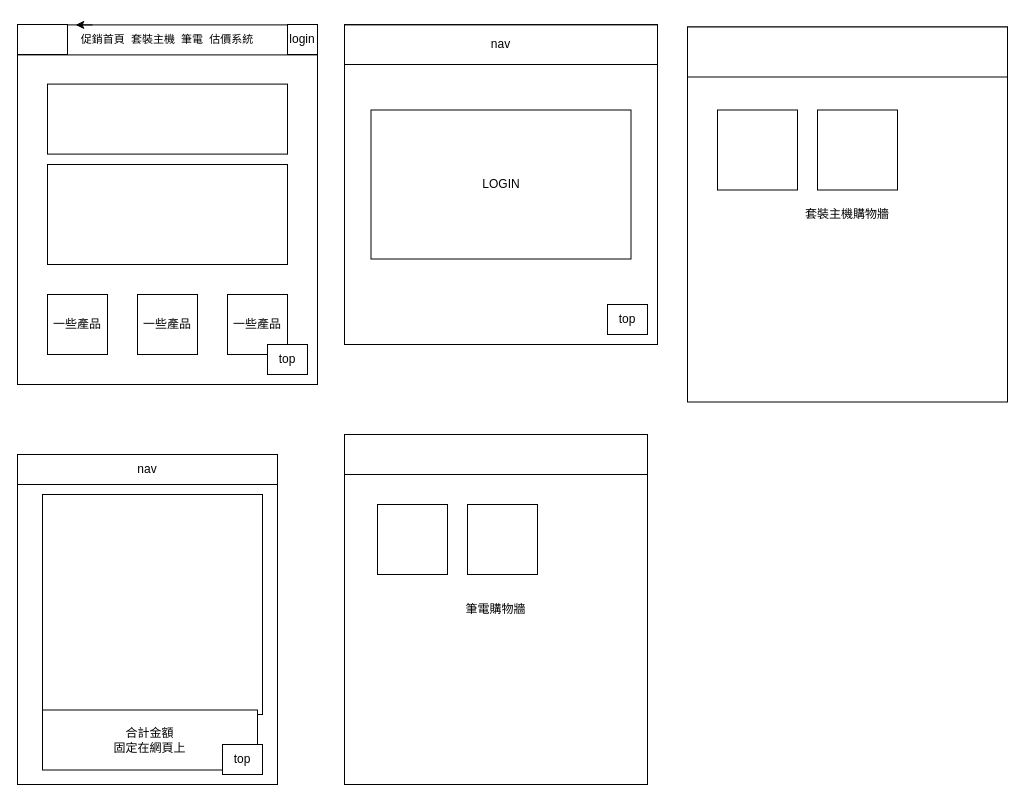
Image size: 1025x802. Some labels were removed from this diagram. The shapes that lost their labels are listed below. From the top down, each one's centre as x and y in pixels, then its label:
At point (42, 39): "logo".
At point (167, 118): "活動".
At point (167, 214): "文字 News".
At point (152, 604): "table many many select 選擇到select會出現產品圖片".
